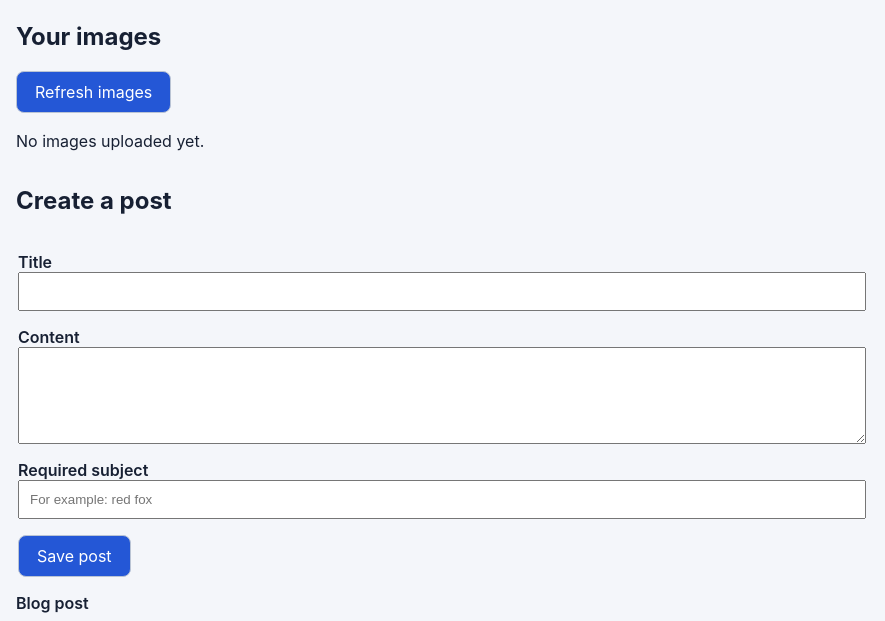
it: saving a post refreshes the dropdown and selects it
(page scrolled)
In the field labelled "Title": (442, 291) [18, 272, 866, 311], type "New private fox article"
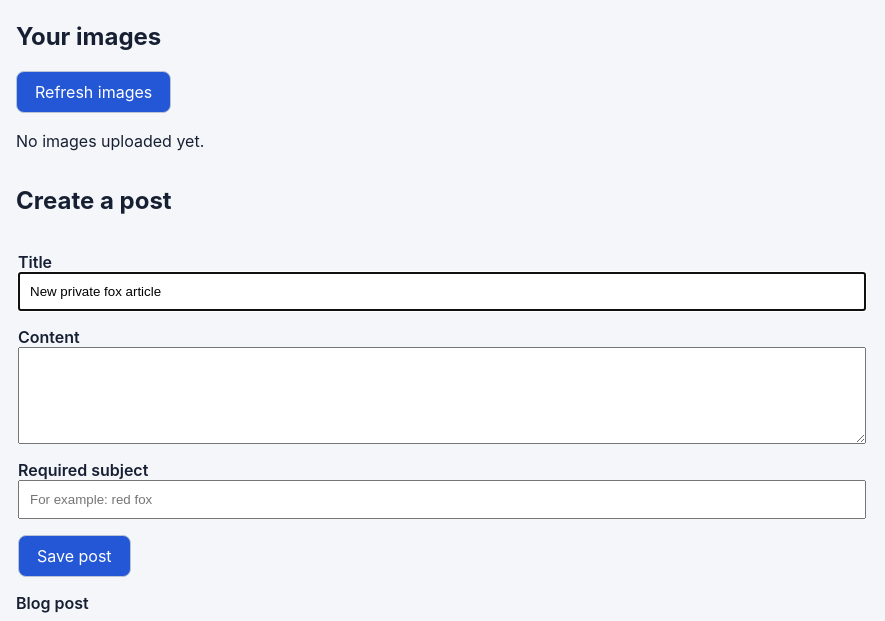
In the text box labelled "Content": (442, 395) [18, 347, 866, 444], type "An article about urban red foxes."
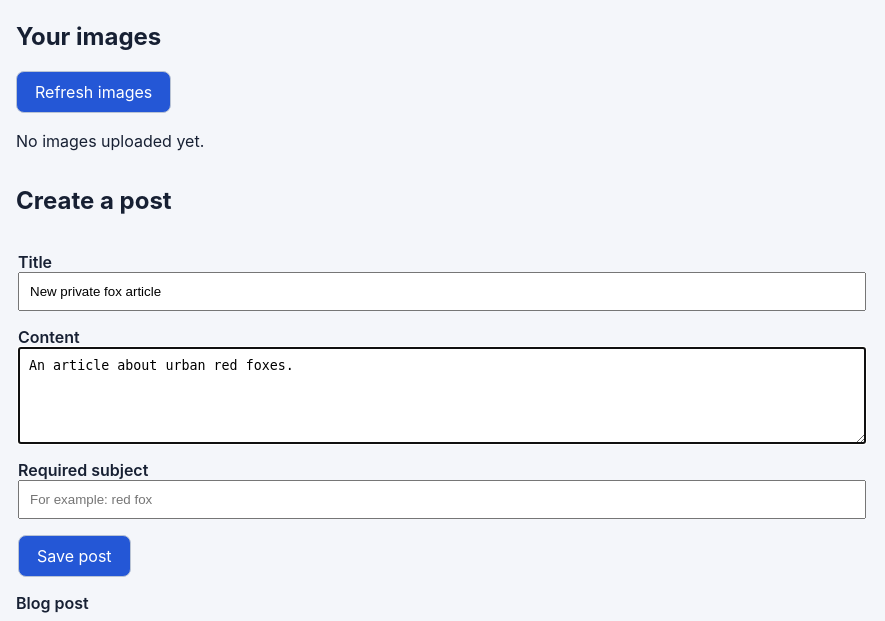
In the field labelled "Required subject": (442, 499) [18, 480, 866, 519], type "red fox"
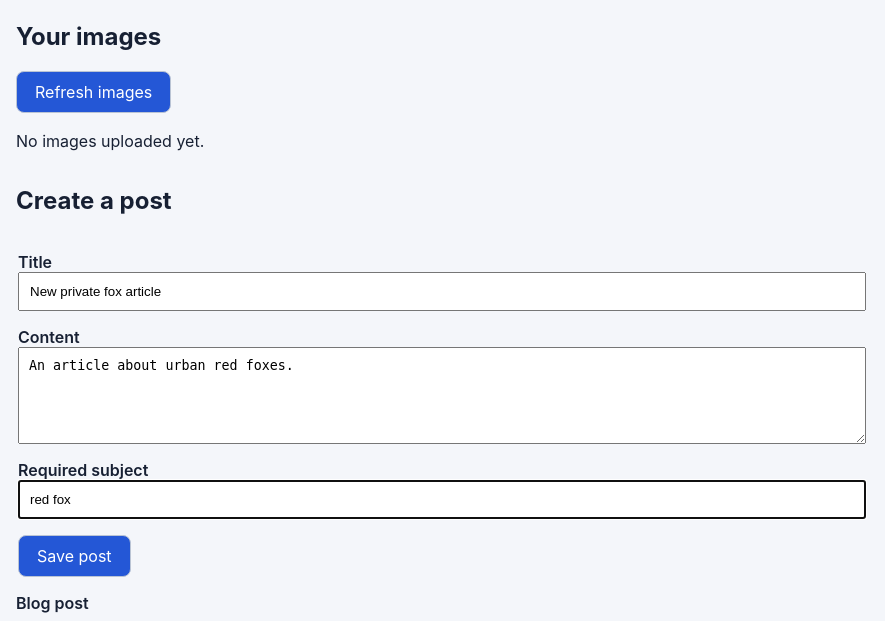
Click the button "Save post": (74, 556) [18, 535, 131, 577]
(page scrolled)
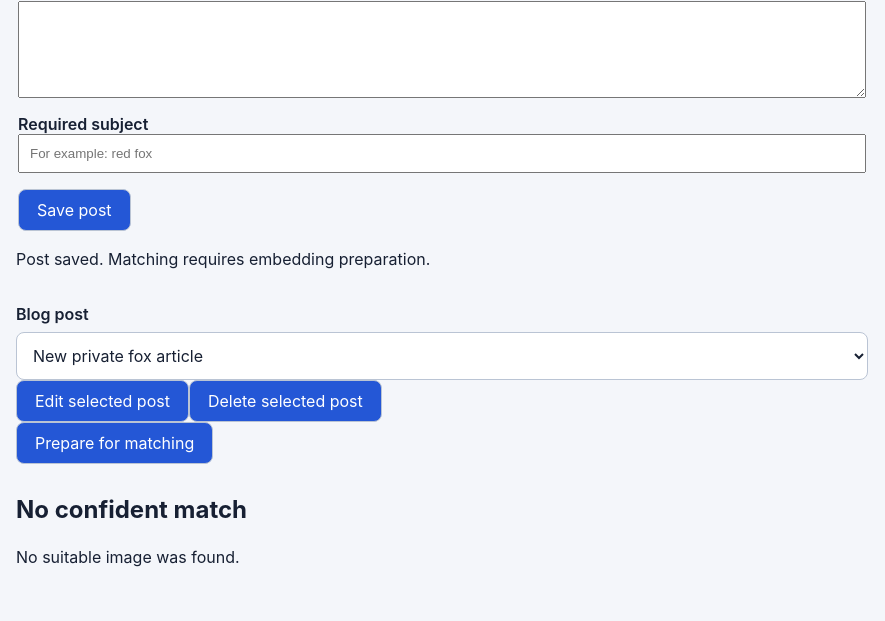
Expected: the dropdown labelled "Blog post" shows "New private fox article", [16, 332, 868, 380]
